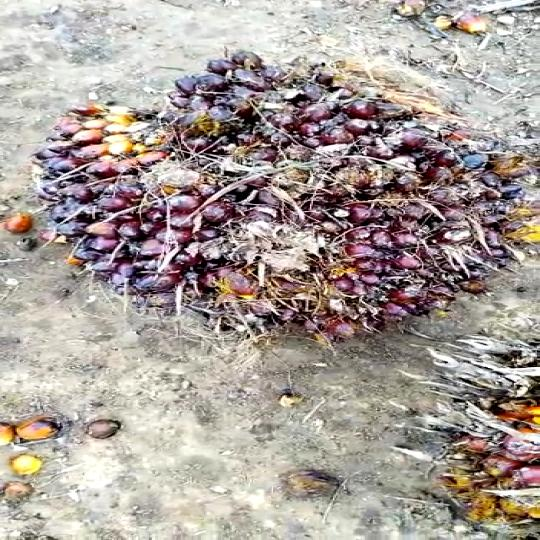mentah: (38, 41, 540, 353)
